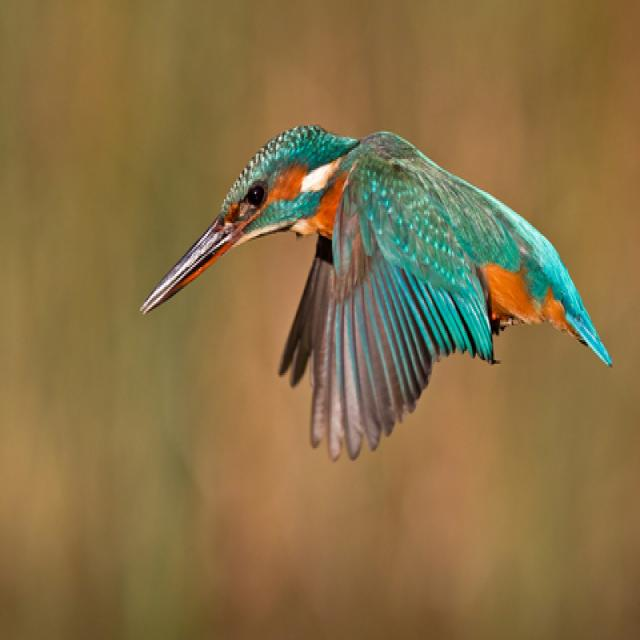kingfisher: (125, 87, 629, 490)
